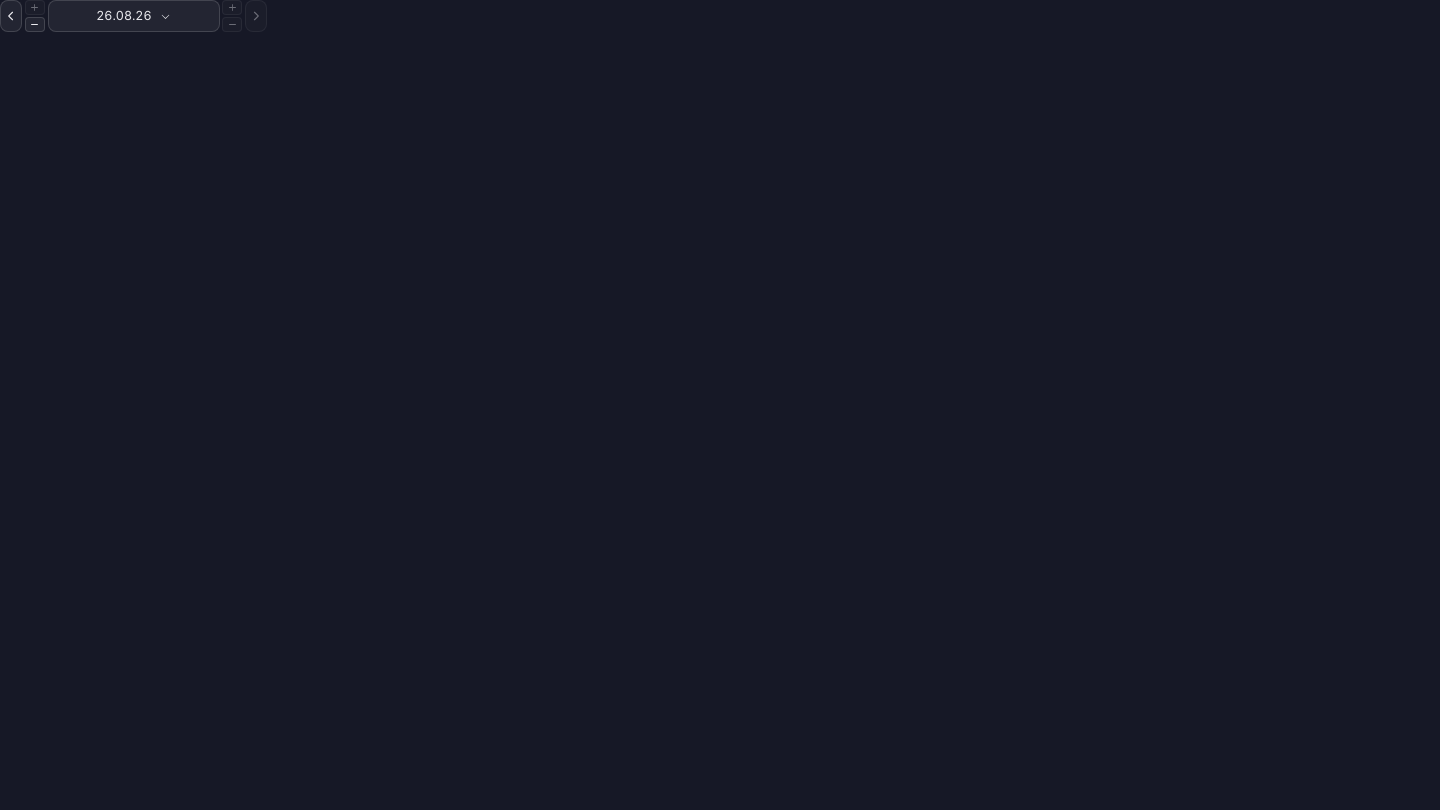
Test: DateRangeFilter › refuses a day no batch was filed under, and takes two clicks for a range
Click the button "26.08.26": (134, 16) [48,0,220,32]
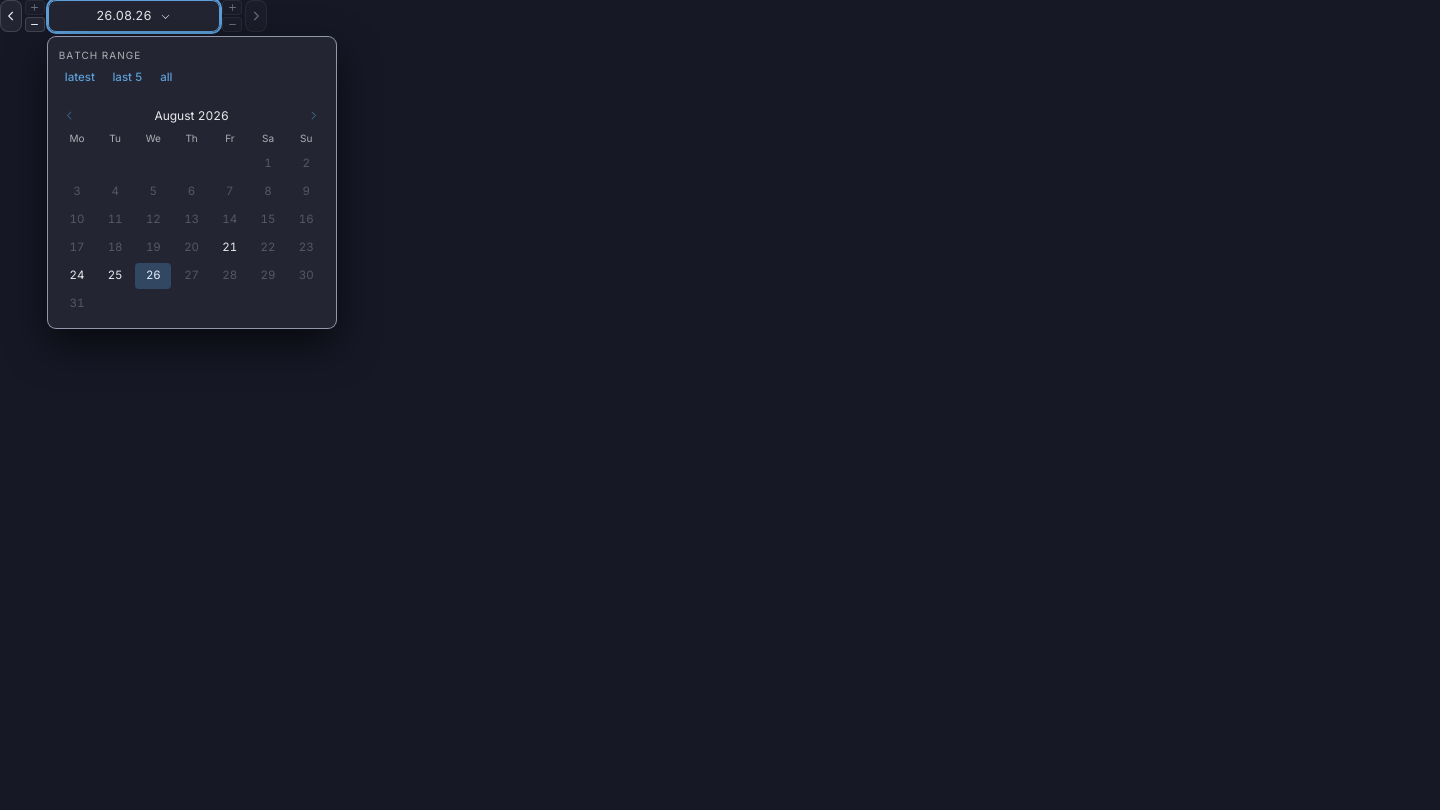
Expected: the button named "23 August 2026" is disabled, [288,235,324,261]
Expected: the button named "22 August 2026" is disabled, [250,235,286,261]
Click the button named "21 August 2026": (230, 248) [212,235,248,261]
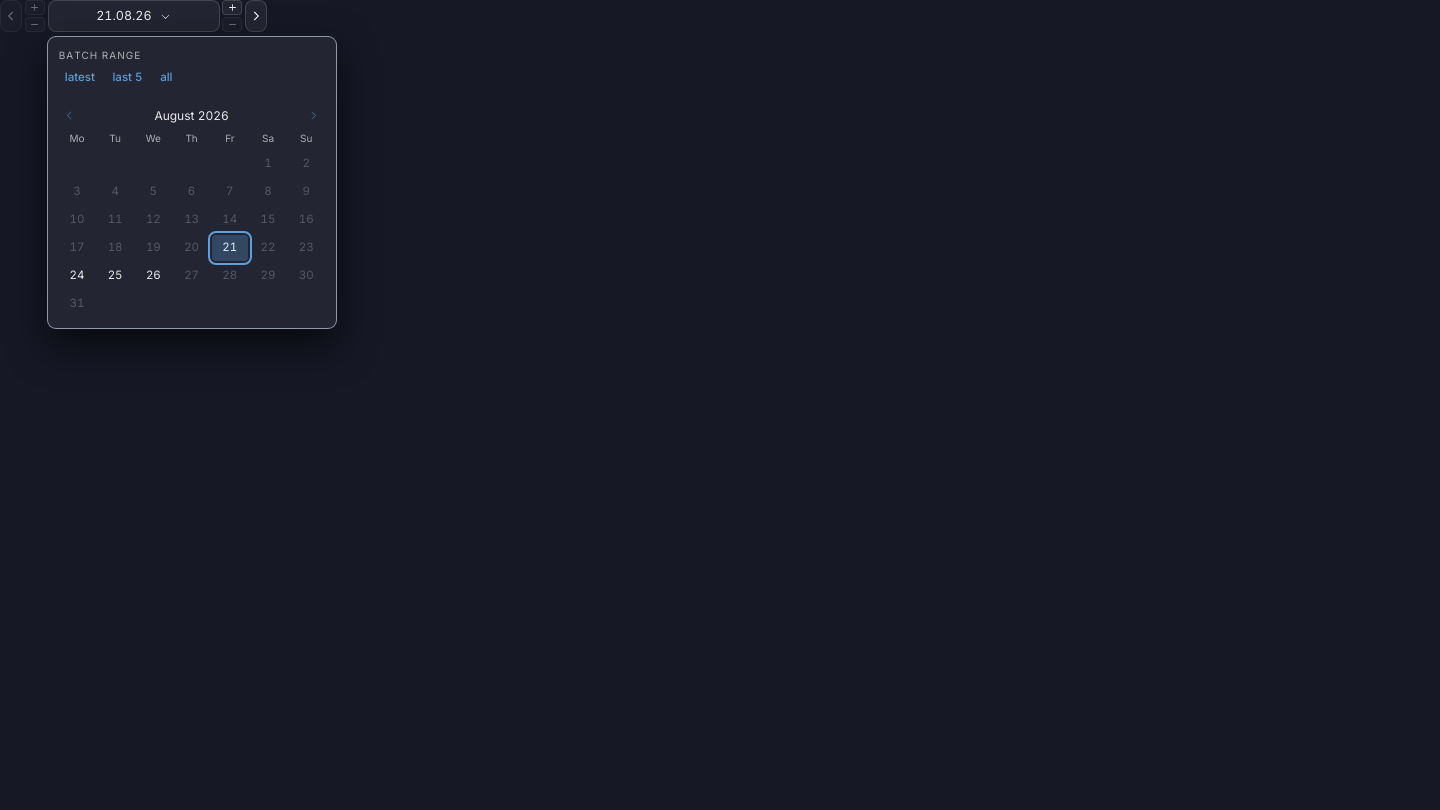
Expected: the button "21.08.26" is shown, [48,0,220,32]
Click the button named "25 August 2026": (115, 276) [97,263,133,289]
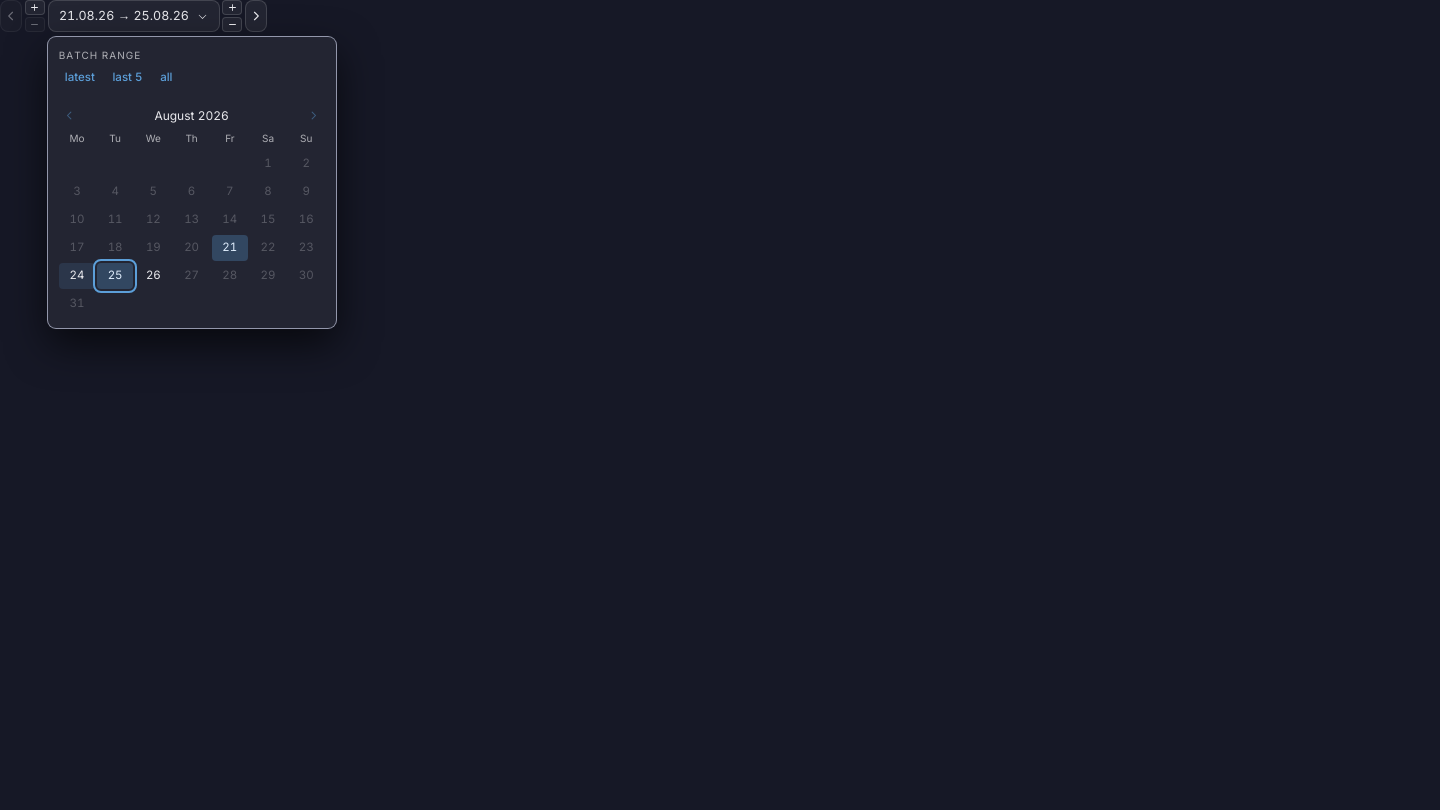
Expected: the button "21.08.26 → 25.08.26" is shown, [48,0,220,32]
